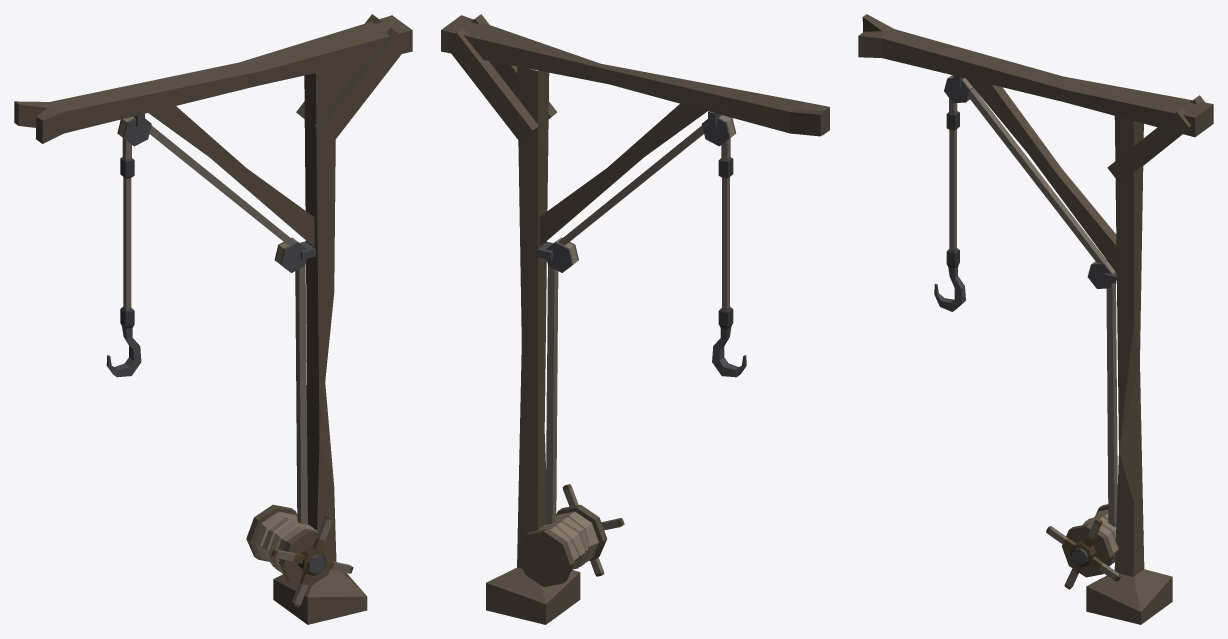
Rendered from SM_Prop_Crane_03.glb.
The picture shows the model from 3 angles, left to right: view 1: azimuth 30°, elevation 25°; view 2: azimuth 150°, elevation 25°; view 3: azimuth 330°, elevation 25°; orthographic projection. The views are drawn at different scales.
Visible parts, largest first — view 1: SM_Prop_Crane_03; view 2: SM_Prop_Crane_03; view 3: SM_Prop_Crane_03.
Part boxes in pixels (x1,y1,x2,y2): SM_Prop_Crane_03: (14,14,412,624); SM_Prop_Crane_03: (441,14,829,624); SM_Prop_Crane_03: (858,14,1213,624).
Size of the model in its own units: 0.0351 by 0.0504 by 0.00713.
